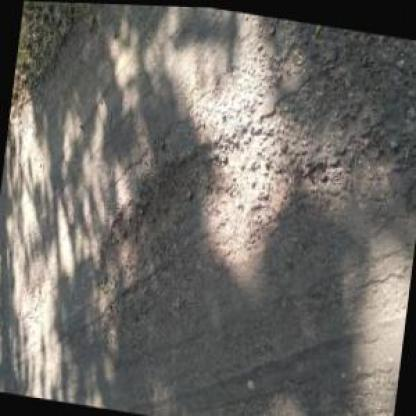pothole: (97, 121, 225, 301)
